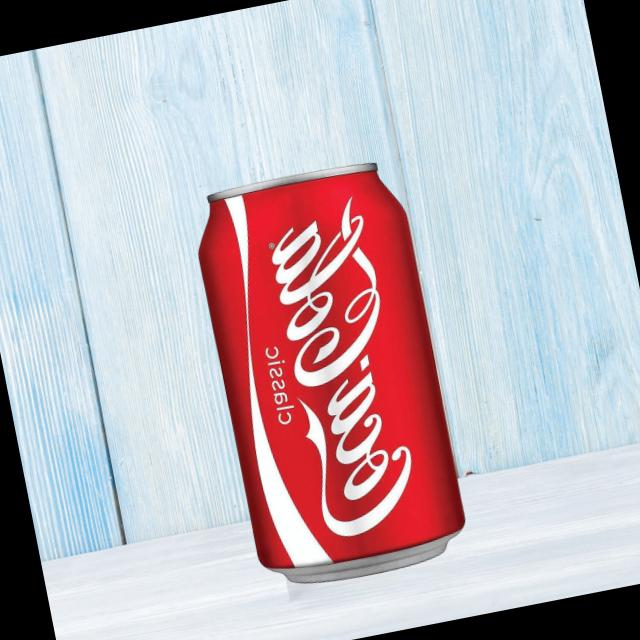cocacola: (186, 154, 474, 597)
